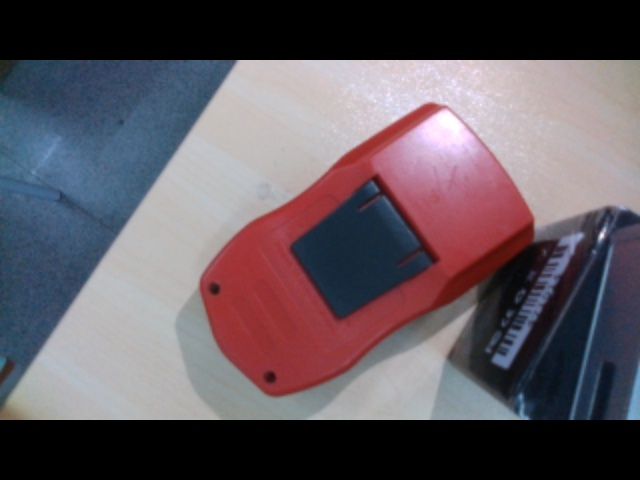Multimeter: (197, 102, 538, 396)
Screw holes: (261, 369, 280, 385), (207, 281, 223, 295)
